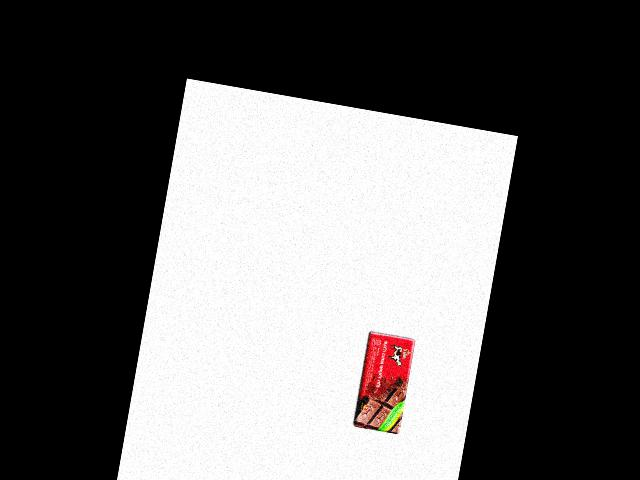chocolate: (348, 327, 417, 434)
